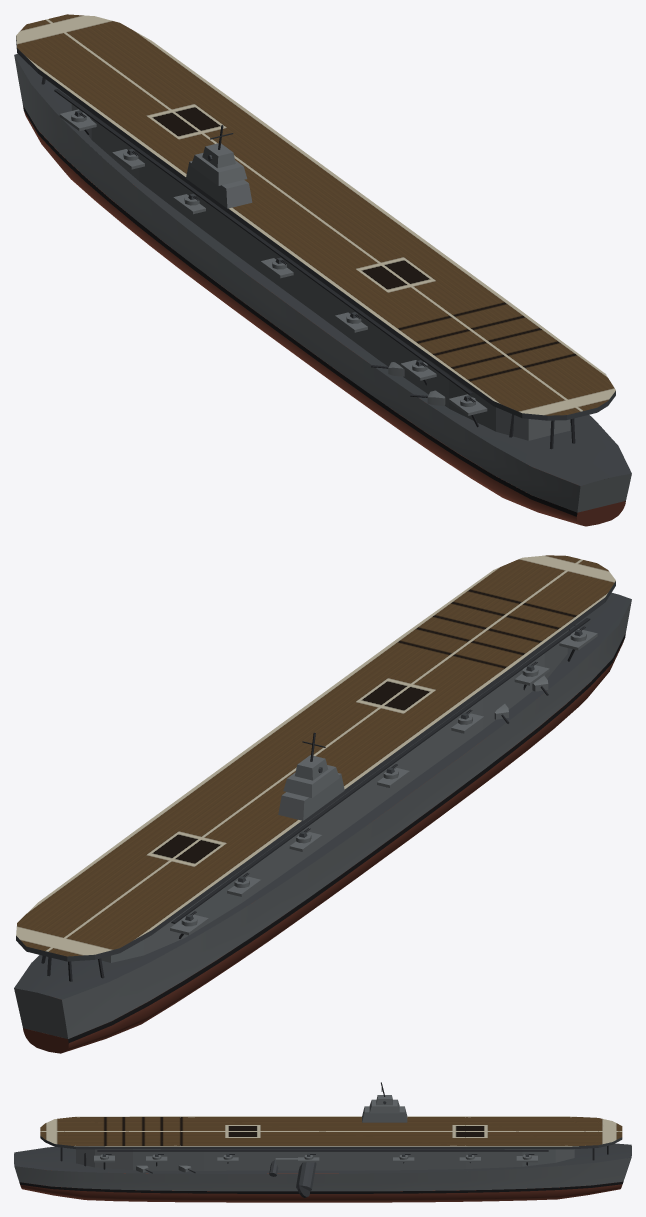
The model's file is carrier_ijn_L.glb.
3 views of the same model, one above another, from view 1: azimuth 30°, elevation 25°; view 2: azimuth 150°, elevation 25°; view 3: azimuth 270°, elevation 25° (orthographic). The views are drawn at different scales.
Parts seen in each view (by area): view 1: carrier_ijn; view 2: carrier_ijn; view 3: carrier_ijn.
Boxes of the visible parts, x1,y1,x2,y2 form: carrier_ijn: [14, 14, 631, 526]; carrier_ijn: [14, 555, 631, 1053]; carrier_ijn: [14, 1082, 631, 1202].
Size of the model in its own units: 42.61 by 46.29 by 260.
6 materials, 1 textured.
